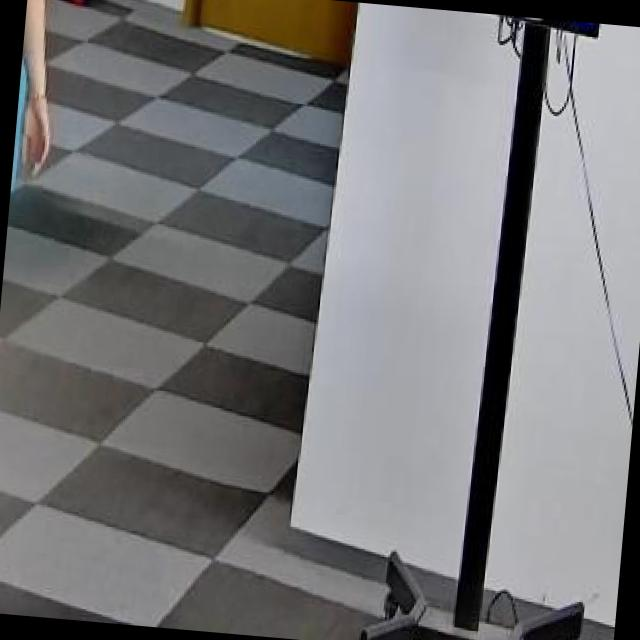Guns: (24, 0, 127, 39)
